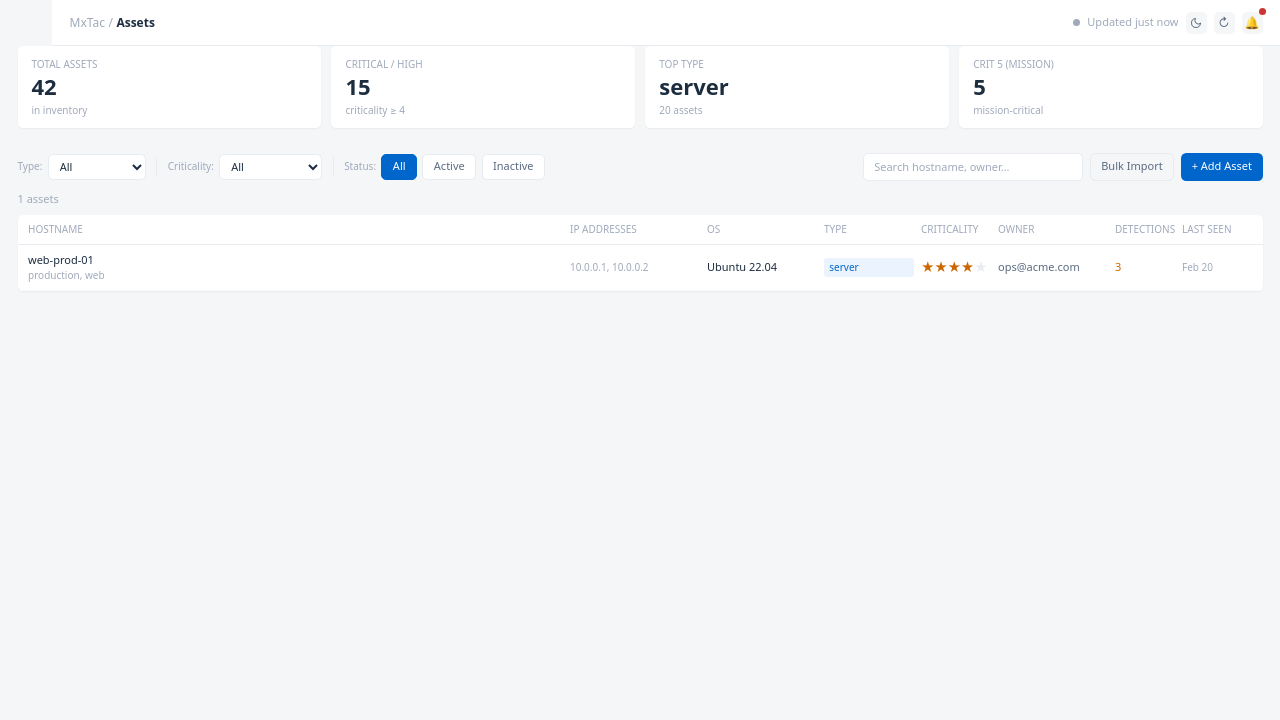
Scenario: AssetsPage › Add Asset modal › clicking "+ Add Asset" opens the modal
Expected: the text "web-prod-01" is shown, [28, 252, 94, 266]
Click the button "+ Add Asset".
click(1222, 166)  # box [1181, 152, 1262, 180]
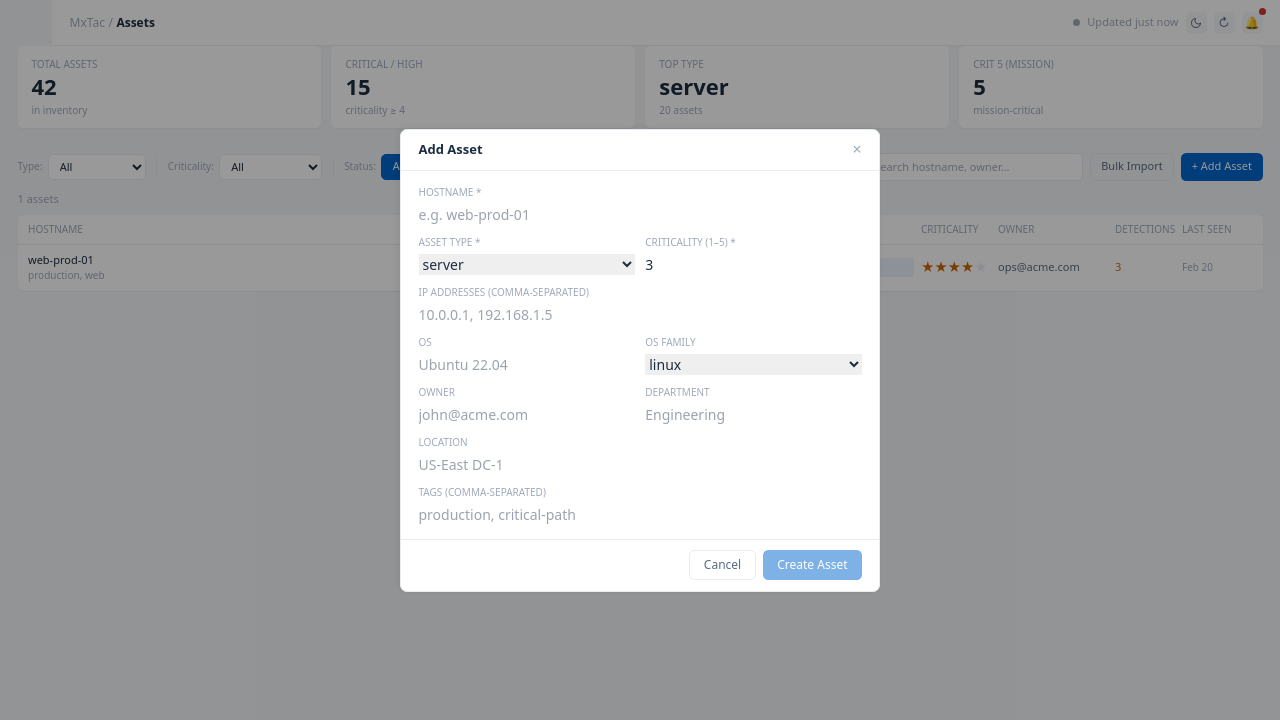
Now the heading "Add Asset" is shown, box [418, 140, 482, 160]
